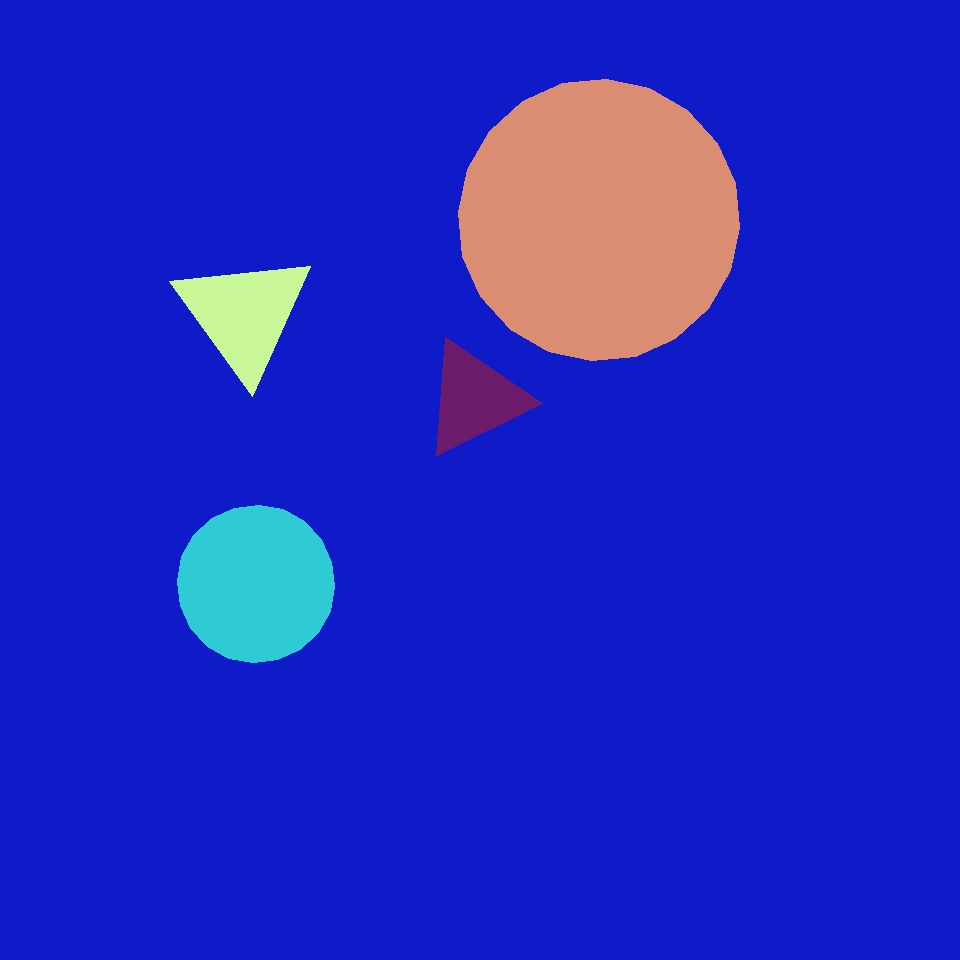circle: (174, 250, 314, 380), (422, 340, 528, 458)
triangle: (458, 79, 740, 360), (177, 505, 334, 662)
